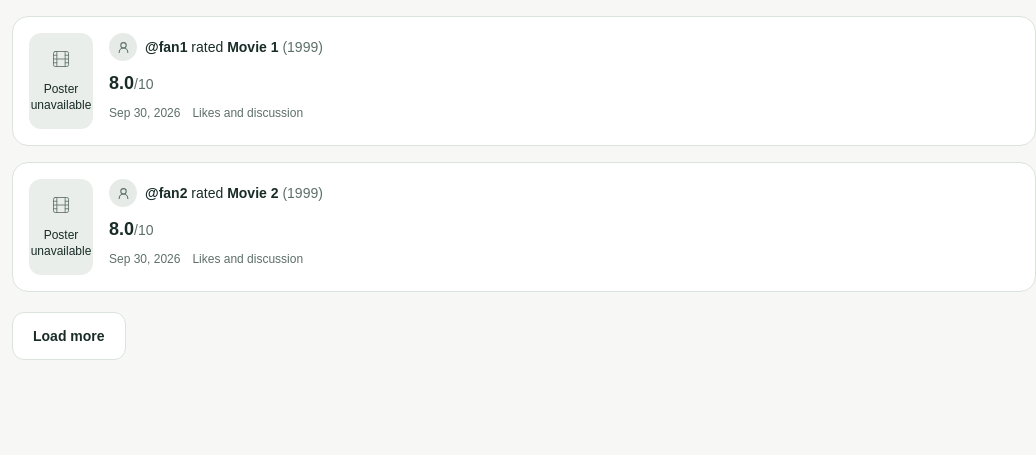
feed cards › load the next page by cursor without duplicates
Click the button "Load more".
click(69, 336)  # box [12,312,126,360]
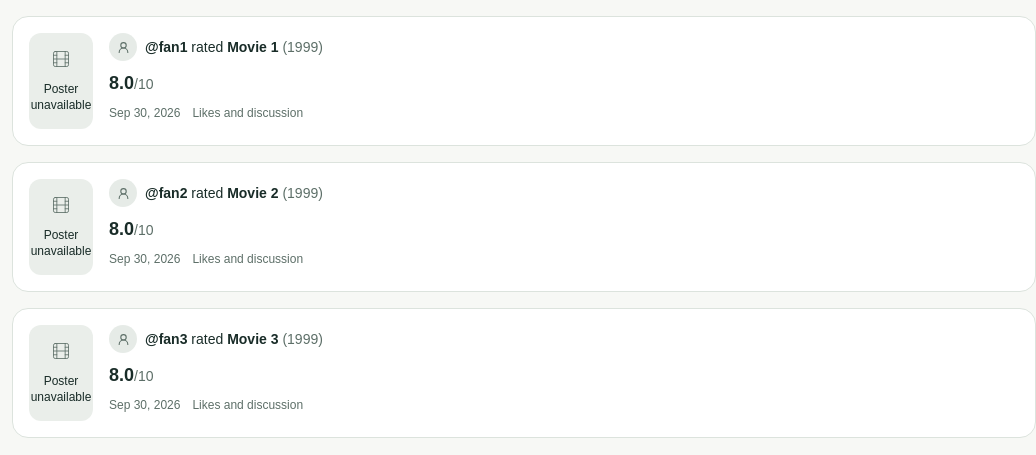
Expected: the button "Load more" is gone
